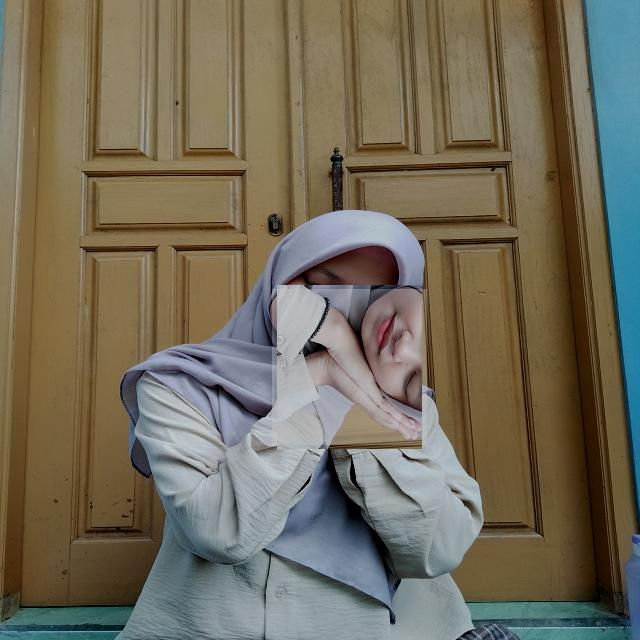tidur: (272, 289, 427, 445)
